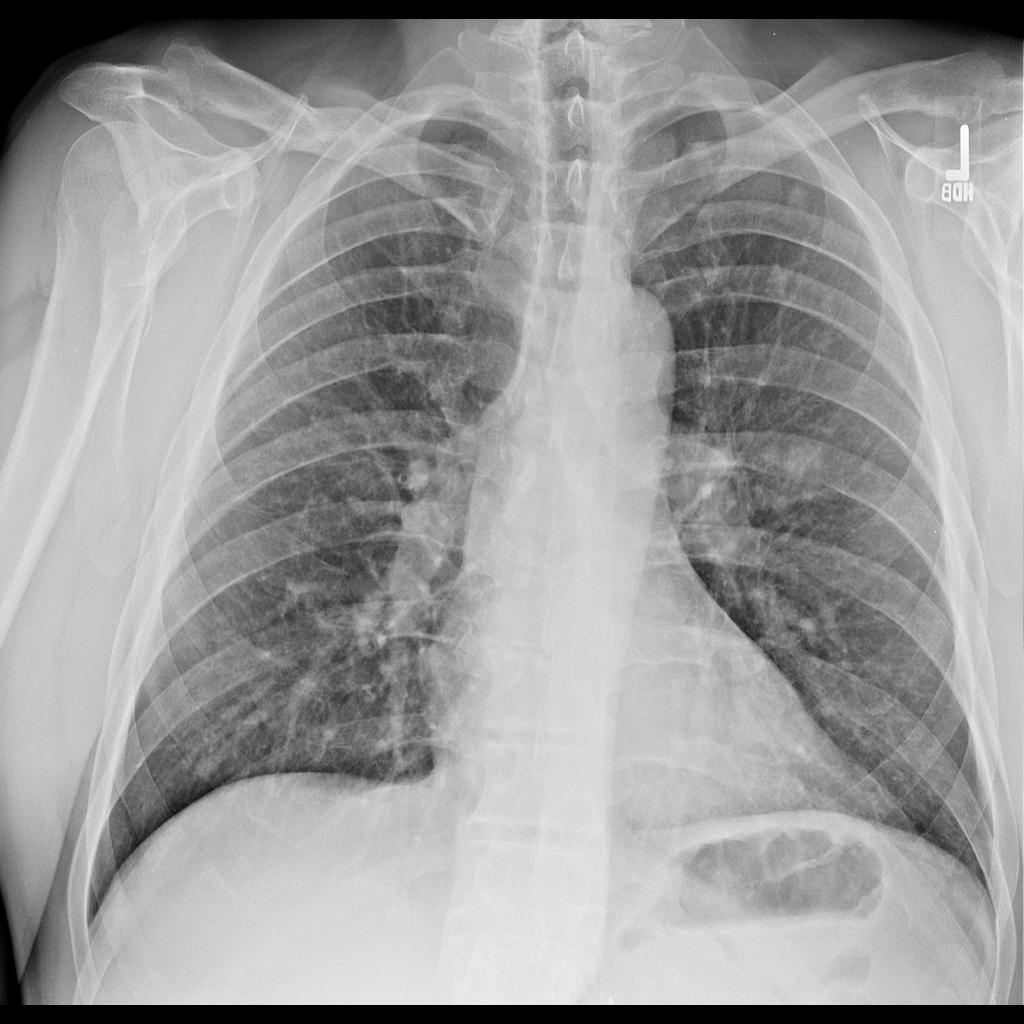Nodule: (748, 433, 835, 515)
